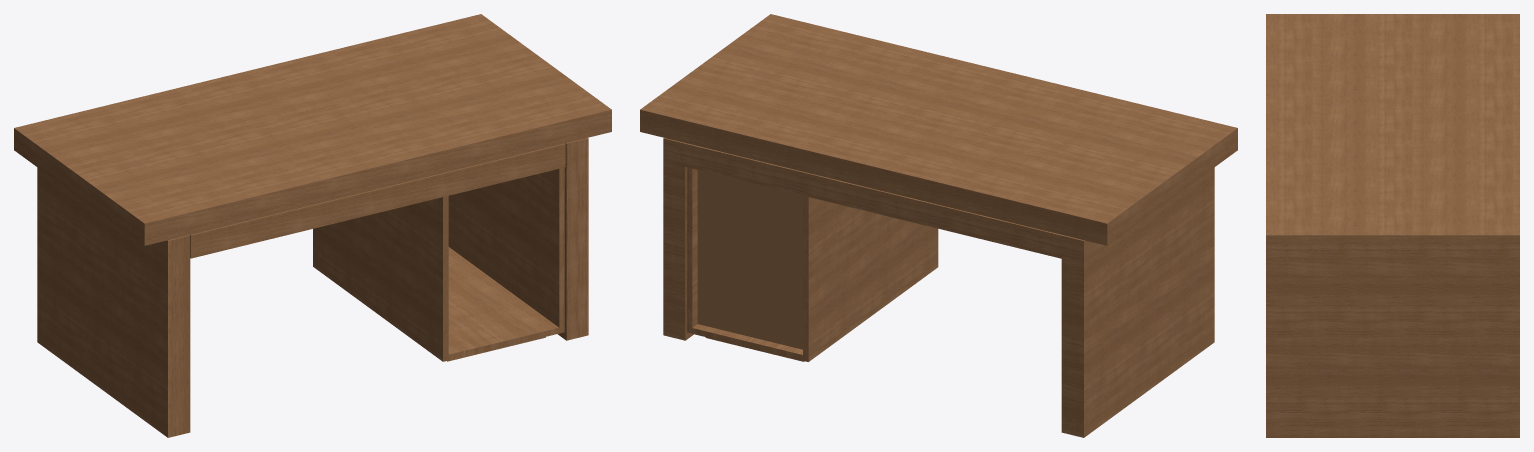
Rendered from Desk2.0.glb.
3 renders of one model, left to right at view 1: azimuth 30°, elevation 25°; view 2: azimuth 150°, elevation 25°; view 3: azimuth 270°, elevation 25°, orthographic. The views are drawn at different scales.
Visible parts, largest first — view 1: Cube; view 2: Cube; view 3: Cube.
Boxes of the visible parts, x1,y1,x2,y2 form: Cube: [14, 14, 611, 437]; Cube: [640, 14, 1237, 437]; Cube: [1266, 14, 1519, 437].
Bounding box in the file's own units: 2.74 × 1.23 × 1.33.
1 material, 1 textured.
